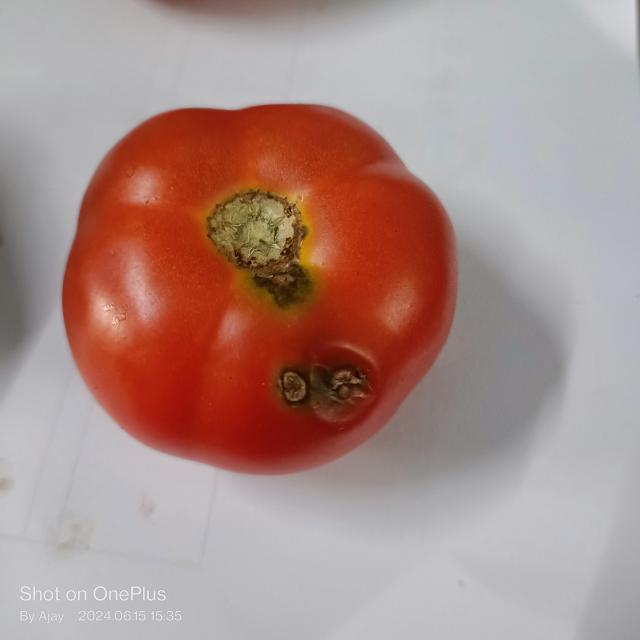Botrytis: (268, 346, 370, 426), (254, 266, 314, 305)
